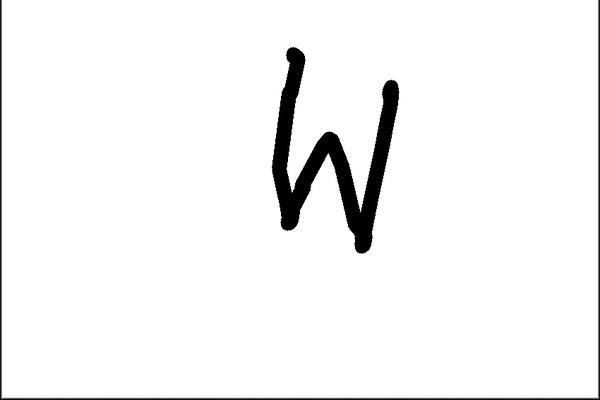w: (258, 30, 403, 263)
